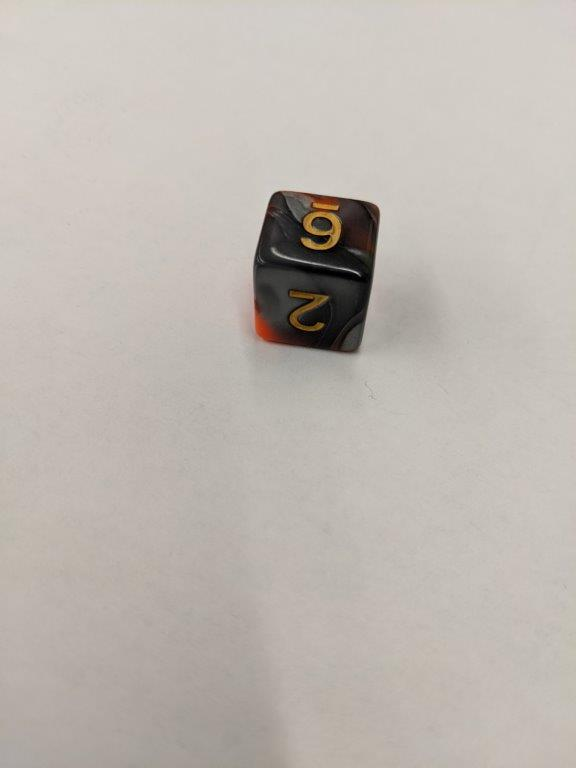d6-6: (247, 186, 383, 354)
